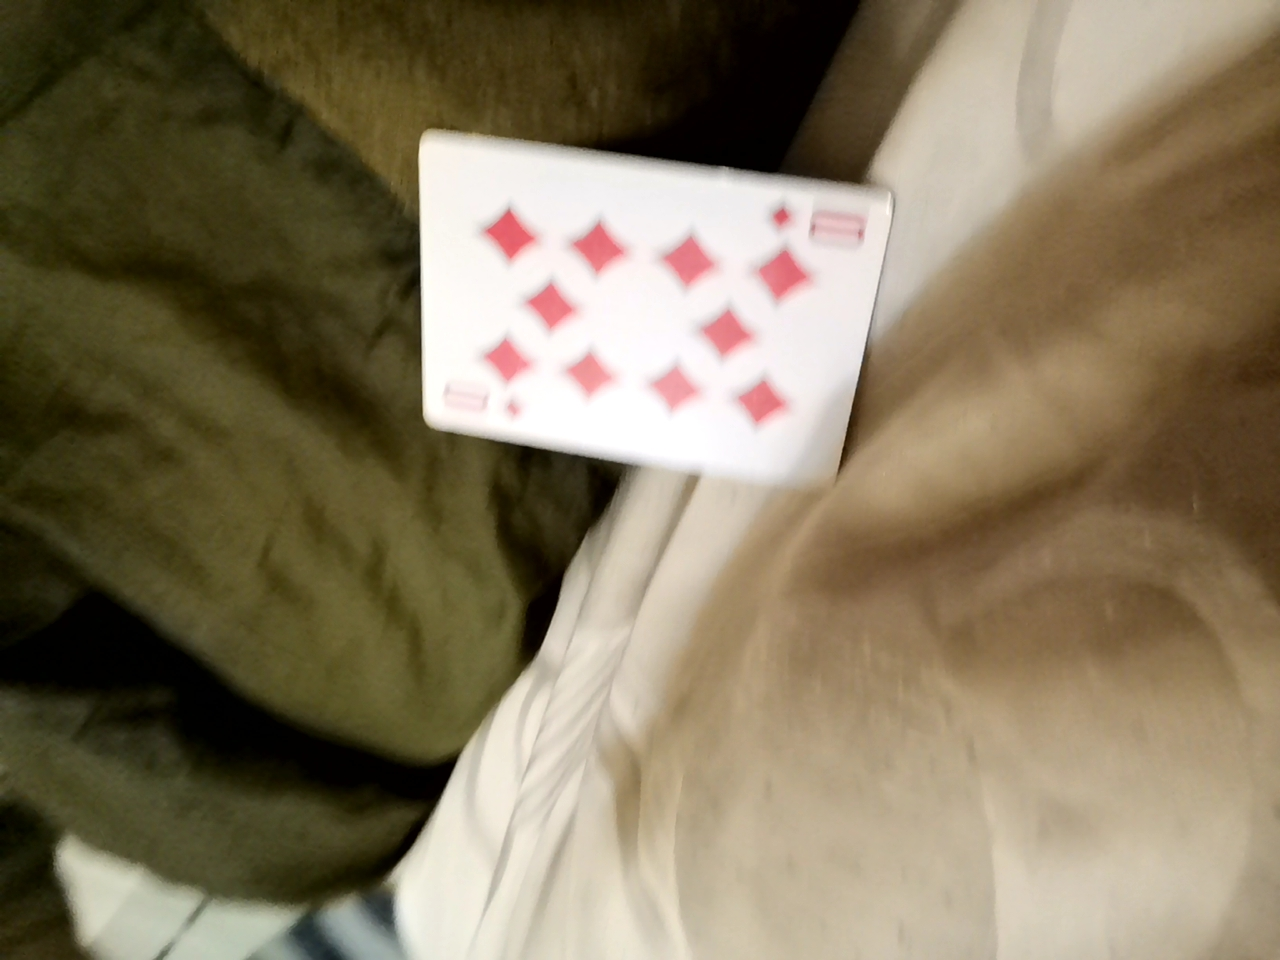fk 10: (397, 132, 871, 477)
